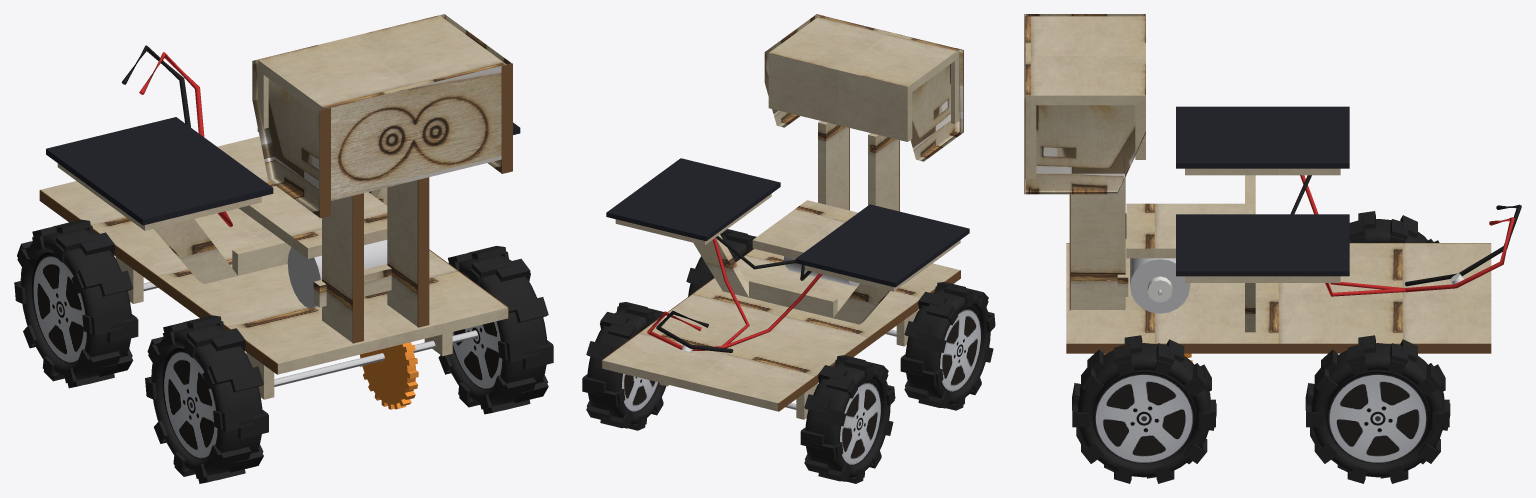
The model's file is carrito_solar.glb.
3 views of the same model, side by side, from view 1: azimuth 30°, elevation 25°; view 2: azimuth 150°, elevation 25°; view 3: azimuth 270°, elevation 25° (orthographic). The views are drawn at different scales.
Parts seen in each view (by area): view 1: CS_Base, CS_Neumatico_Del_-1, CS_Cabeza_Ojos, CS_Panel_-1, CS_Base_Canto_-1, CS_Llanta_Del_-1_-1, CS_Cabeza_Lateral_-1, CS_Llanta_Tras_-1_-1, CS_Eje_Del, CS_Engranaje_Grande, CS_Cable_R_-1, CS_Cable_N_-1; view 2: CS_Base, CS_Neumatico_Del_-1, CS_Panel_-1, CS_Cabeza_Lateral_-1, CS_Llanta_Tras_-1_-1, CS_Llanta_Del_-1_-1, CS_Base_Canto_-1, CS_Cable_R_-1, CS_Cable_N_-1, CS_Eje_Del; view 3: CS_Base, CS_Panel_-1, CS_Neumatico_Del_-1, CS_Cabeza_Lateral_-1, CS_Llanta_Tras_-1_-1, CS_Llanta_Del_-1_-1, CS_Base_Canto_-1, CS_Eje_Del, CS_Cable_R_-1, CS_Cable_N_-1, CS_Pinon.
Part boxes in pixels (x1,y1,x2,y2): CS_Base: (41,15,507,399); CS_Neumatico_Del_-1: (14,191,553,483); CS_Cabeza_Ojos: (326,64,506,200); CS_Panel_-1: (46,117,520,225); CS_Base_Canto_-1: (39,63,512,374); CS_Llanta_Del_-1_-1: (162,321,502,459); CS_Cabeza_Lateral_-1: (252,14,511,217); CS_Llanta_Tras_-1_-1: (32,252,86,363); CS_Eje_Del: (143,240,477,386); CS_Engranaje_Grande: (360,342,418,409); CS_Cable_R_-1: (139,52,232,226); CS_Cable_N_-1: (121,45,190,127); CS_Base: (602,15,960,419); CS_Neumatico_Del_-1: (582,229,995,483); CS_Panel_-1: (606,158,969,287); CS_Cabeza_Lateral_-1: (764,14,963,161); CS_Llanta_Tras_-1_-1: (621,374,881,465); CS_Llanta_Del_-1_-1: (940,307,981,392); CS_Base_Canto_-1: (601,14,963,411); CS_Cable_R_-1: (647,238,822,350); CS_Cable_N_-1: (656,236,811,352); CS_Eje_Del: (784,256,896,409); CS_Base: (1025,16,1491,343); CS_Panel_-1: (1176,106,1349,276); CS_Neumatico_Del_-1: (1072,211,1450,483); CS_Cabeza_Lateral_-1: (1025,14,1145,194); CS_Llanta_Tras_-1_-1: (1326,371,1429,463); CS_Llanta_Del_-1_-1: (1093,371,1195,463); CS_Base_Canto_-1: (1024,14,1491,353); CS_Eje_Del: (1130,258,1190,313); CS_Cable_R_-1: (1300,175,1514,296); CS_Cable_N_-1: (1290,175,1521,286); CS_Pinon: (1147,273,1463,302).
Size of the model in its own units: 1.1 by 1.11 by 1.4.
Materials: 14 (5 with a texture image).
